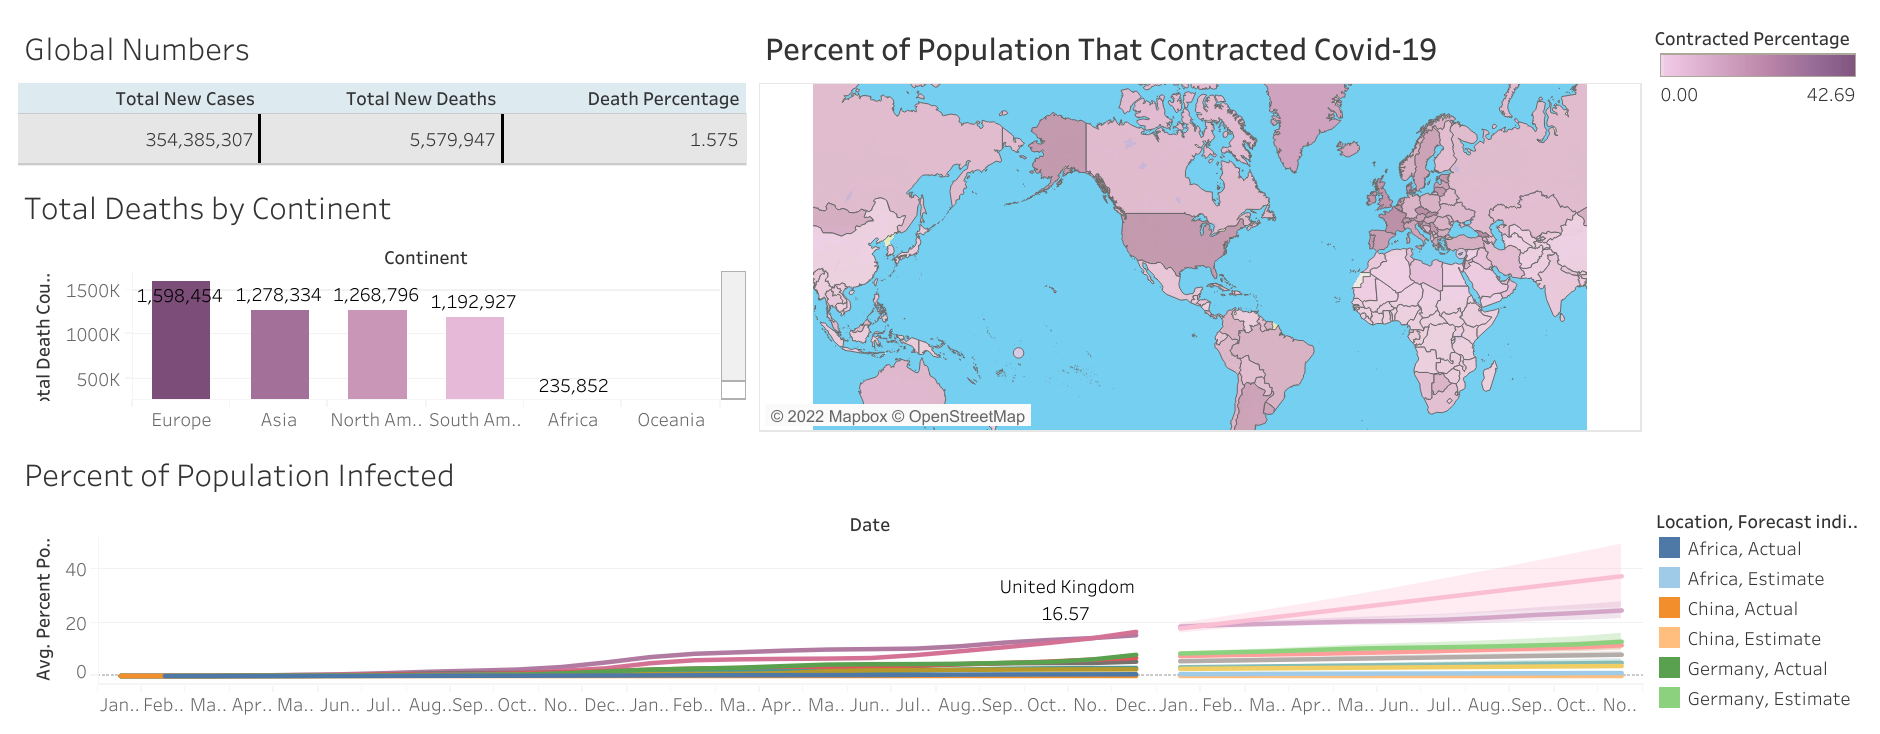

The dashboard page shown, as its layout file describes it:
{"tool":"tableau","page":{"name":"Dashboard 1","canvas":[1000,1000],"units":"permille","ordinal":0},"visuals":[{"type":"worksheet","title":"Sheet 1","mark":"Automatic","box":[4.8,9.6,394.8,220]},{"type":"worksheet","title":"Sheet 3","mark":"Automatic","box":[399.6,9.6,477.8,587.7]},{"type":"legend","title":"Sheet 3","param":"[federated.1nbmma91e1q6x30zv9se719f7kyy].[sum:contracted_percentage:qk]","box":[877.4,9.6,117.8,389.4]},{"type":"worksheet","title":"Sheet 2","mark":"Automatic","rows":["TotalDeathCount"],"cols":["location"],"box":[4.8,229.6,394.8,367.8]},{"type":"legend","title":"Sheet 4","param":"[federated.1lkrbdn1wx45ys1ggi9420xnyhte].[none:location:nk]\n[federated.1lkrbdn1w","box":[877.4,399.1,117.8,581.7]},{"type":"worksheet","title":"Sheet 4","mark":"Automatic","rows":["PercentPopulationInfected"],"cols":["date"],"box":[4.8,597.4,872.6,393]}]}

Visuals, with their boxes on the dashboard's canvas, which has no fixed pixel size, in thousandths of its width and height (x1, y1, x2, y2). These are canvas units, not pixel positions in the 1880x734 screenshot, which may show the page scaled, cropped or inside an application window:
"Sheet 1" worksheet: <bbox>5, 10, 400, 230</bbox>
"Sheet 3" worksheet: <bbox>400, 10, 877, 597</bbox>
"Sheet 3" legend: <bbox>877, 10, 995, 399</bbox>
"Sheet 2" worksheet: <bbox>5, 230, 400, 597</bbox>
"Sheet 4" legend: <bbox>877, 399, 995, 981</bbox>
"Sheet 4" worksheet: <bbox>5, 597, 877, 990</bbox>
